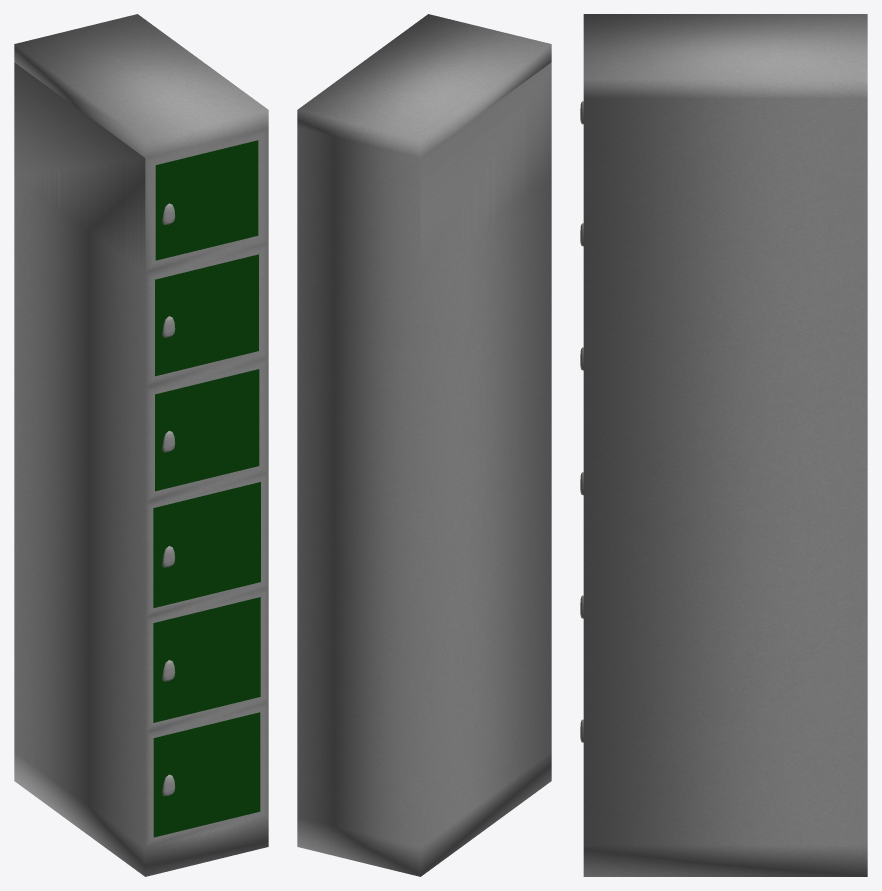
Rendered from Armario rede3.fbx.
3 renders of one model, left to right at view 1: azimuth 30°, elevation 25°; view 2: azimuth 150°, elevation 25°; view 3: azimuth 270°, elevation 25°, orthographic. The views are drawn at different scales.
Parts seen in each view (by area): view 1: armario rede; view 2: armario rede; view 3: armario rede.
Boxes of the visible parts, x1=… form: armario rede: x1=14, y1=14, x2=268, y2=876; armario rede: x1=297, y1=14, x2=551, y2=876; armario rede: x1=580, y1=14, x2=867, y2=876.
Size of the model in its own units: 0.4504 by 2.57 by 0.8384.
2 materials, 1 textured.
